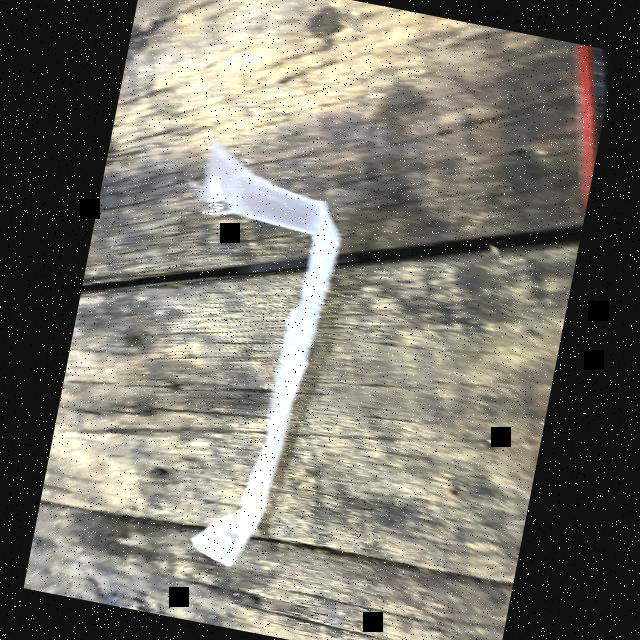scrap_plastic: (124, 138, 360, 580)
